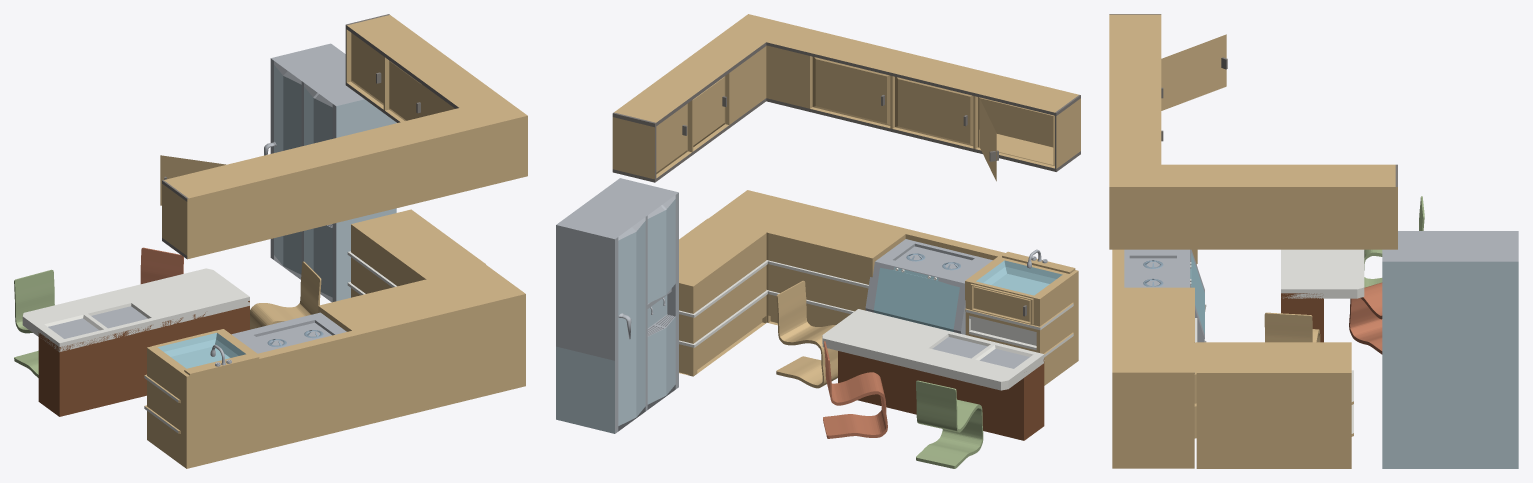
File: furniture_kitchen.glb
The picture shows the model from 3 angles, left to right: view 1: azimuth 30°, elevation 25°; view 2: azimuth 150°, elevation 25°; view 3: azimuth 270°, elevation 25°; orthographic projection. The views are drawn at different scales.
Parts seen in each view (by area): view 1: FURN_cabinet_low, FURN_cabinet_up, FURN_fridge, FURN_island_top, FURN_island, FURN_sink_stove, FURN_stool2, FURN_stool3, FURN_stool1; view 2: FURN_cabinet_up, FURN_cabinet_low, FURN_fridge, FURN_island_top, FURN_sink_stove, FURN_island, FURN_stool2, FURN_stool3, FURN_stool1; view 3: FURN_cabinet_up, FURN_cabinet_low, FURN_fridge, FURN_island_top, FURN_sink_stove, FURN_stool1, FURN_stool3, FURN_island, FURN_stool2.
Boxes of the visible parts, bbox=[...] form: FURN_cabinet_low: bbox=[144, 209, 525, 468]; FURN_cabinet_up: bbox=[160, 14, 527, 259]; FURN_fridge: bbox=[270, 43, 396, 302]; FURN_island_top: bbox=[22, 268, 249, 352]; FURN_island: bbox=[38, 301, 249, 416]; FURN_sink_stove: bbox=[231, 312, 346, 353]; FURN_stool2: bbox=[14, 269, 54, 377]; FURN_stool3: bbox=[250, 261, 321, 329]; FURN_stool1: bbox=[140, 247, 183, 283]; FURN_cabinet_up: bbox=[612, 14, 1080, 182]; FURN_cabinet_low: bbox=[679, 190, 1078, 385]; FURN_fridge: bbox=[556, 178, 678, 433]; FURN_island_top: bbox=[822, 309, 1044, 390]; FURN_sink_stove: bbox=[865, 239, 992, 334]; FURN_island: bbox=[838, 351, 1044, 440]; FURN_stool2: bbox=[916, 380, 983, 468]; FURN_stool3: bbox=[776, 280, 837, 388]; FURN_stool1: bbox=[823, 341, 887, 438]; FURN_cabinet_up: bbox=[1109, 14, 1397, 249]; FURN_cabinet_low: bbox=[1112, 249, 1353, 468]; FURN_fridge: bbox=[1382, 231, 1518, 468]; FURN_island_top: bbox=[1281, 249, 1364, 298]; FURN_sink_stove: bbox=[1124, 249, 1206, 342]; FURN_stool1: bbox=[1349, 282, 1382, 354]; FURN_stool3: bbox=[1264, 312, 1320, 342]; FURN_island: bbox=[1281, 293, 1323, 342]; FURN_stool2: bbox=[1364, 196, 1424, 287].
Size of the model in its own units: 4.05 by 2.72 by 3.58.
